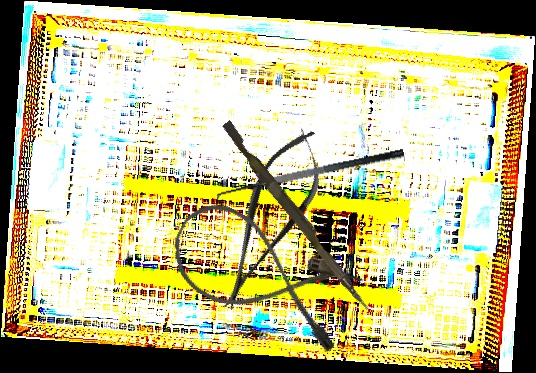Cannula: (157, 191, 369, 359)
Micro Scissor: (198, 119, 341, 320)
Pusher: (217, 120, 377, 312)
Spatula Surgical: (214, 147, 408, 211)
